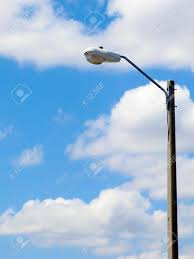light_pole: (156, 69, 188, 259)
